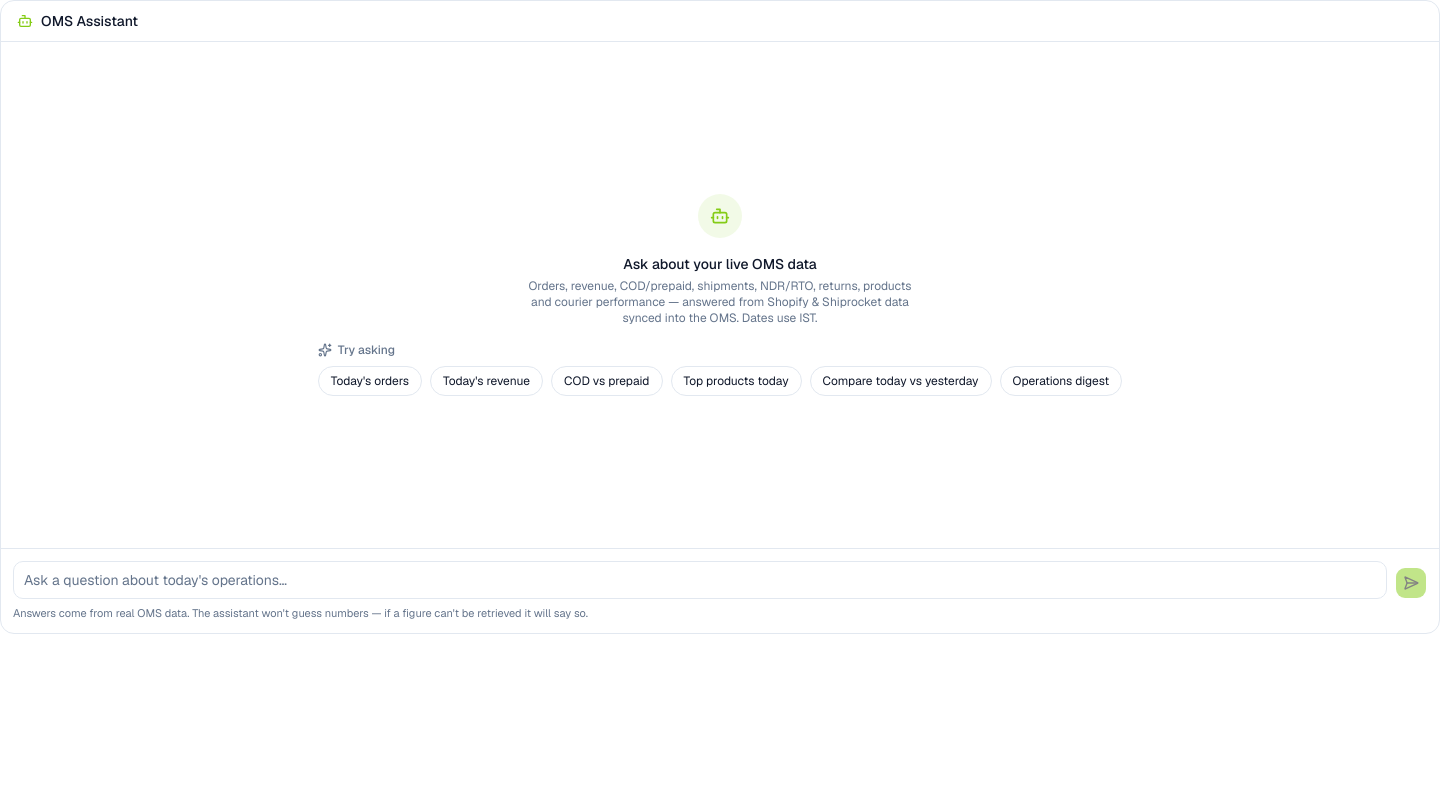
ChatPanel › marks a partial answer
The width and height of the screenshot is (1440, 810).
Type "summary" into the text box named "Message the OMS assistant".
click(700, 580); type("summary")  # box x1=13 y1=560 x2=1387 y2=598
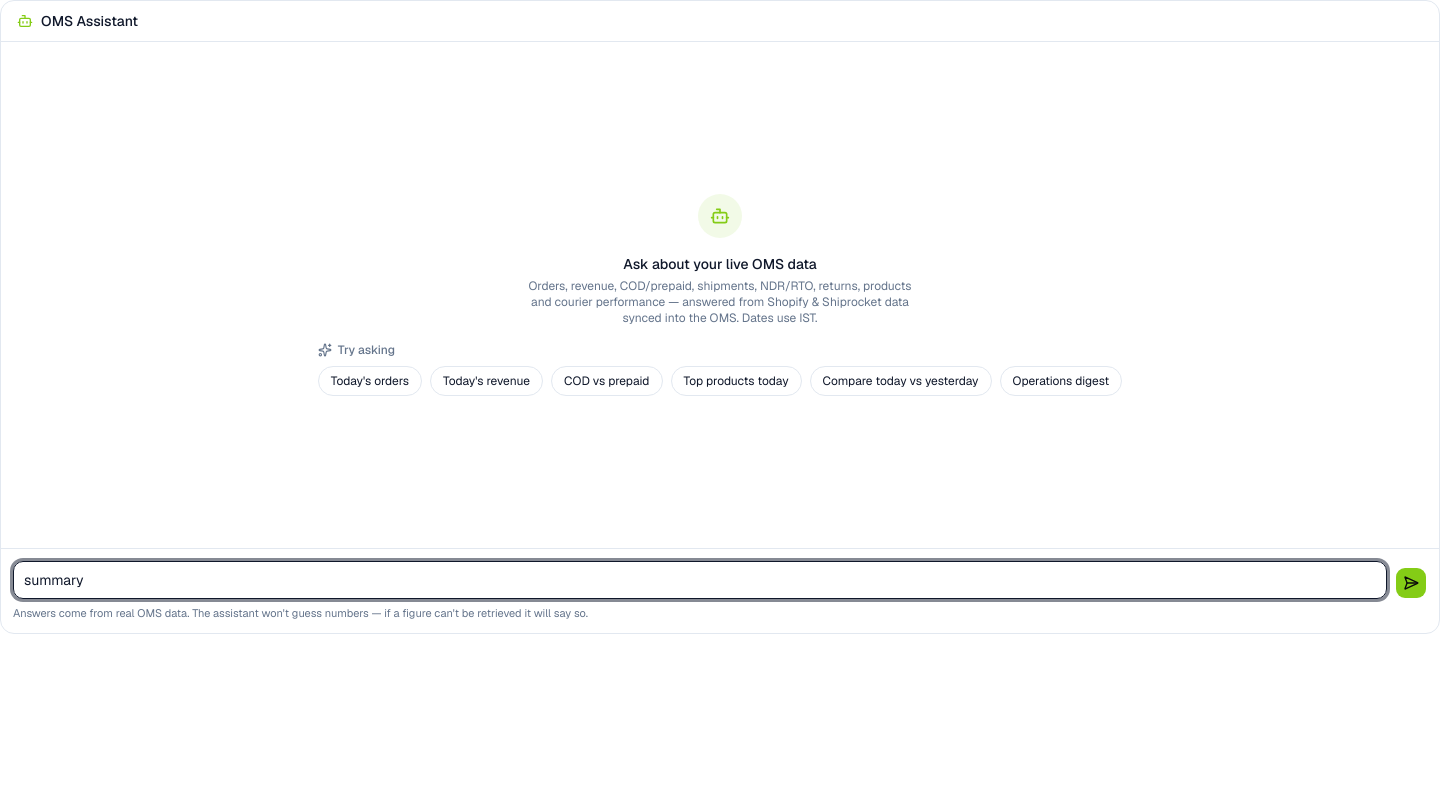
Click the button named "Send".
click(1411, 582)  # box x1=1395 y1=566 x2=1427 y2=598
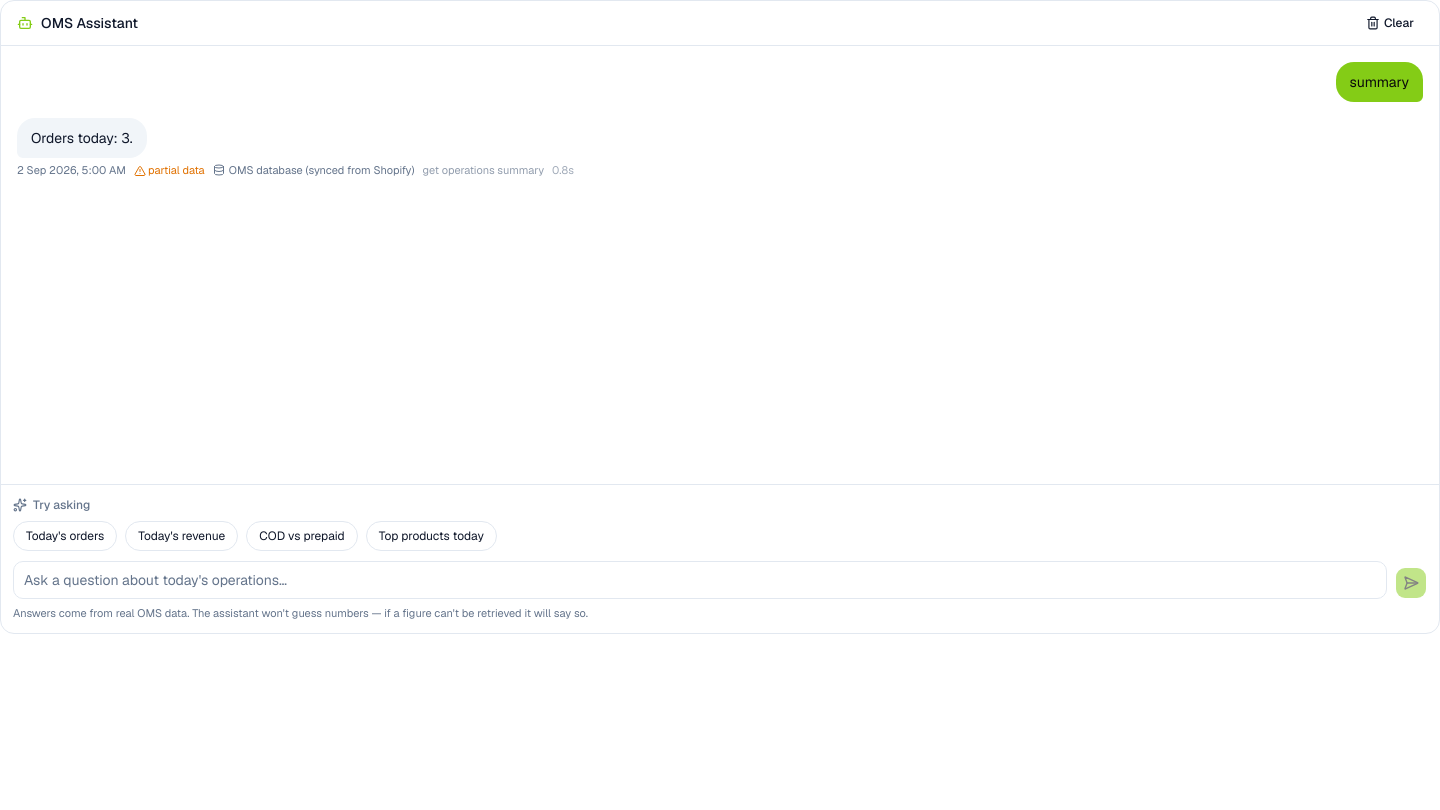
Now the text "partial data" is shown, box x1=134 y1=162 x2=205 y2=178
